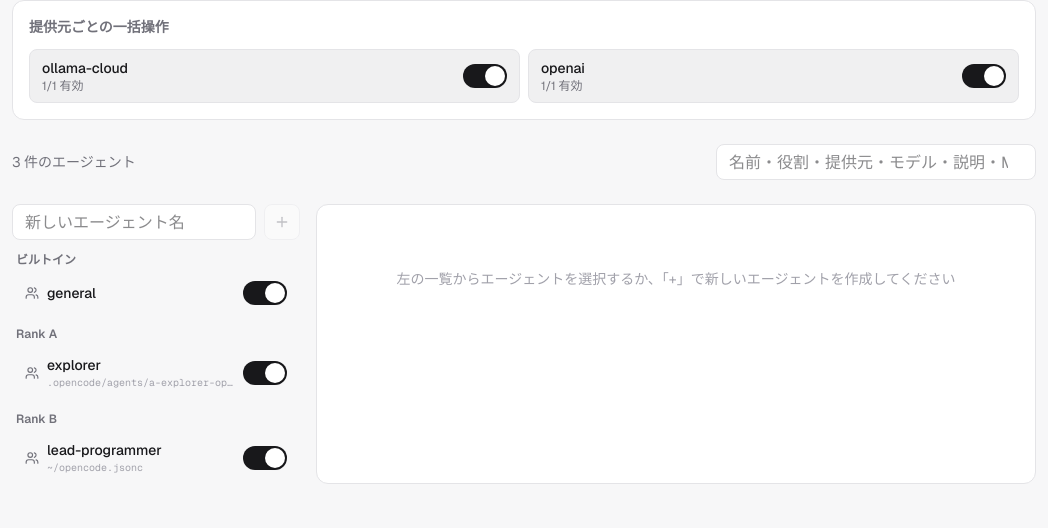
Test case: AgentsSettings › lists each agent's source path and shows its scope once selected
Check: the heading "Rank A" is shown, box [16,326,57,342]
Check: the number of headings "Rank B" is 1, box [16,411,57,427]
Click the button "explorer .opencode/agents/a-explorer-openai-gpt-5.md": (130, 372) [25,355,235,390]
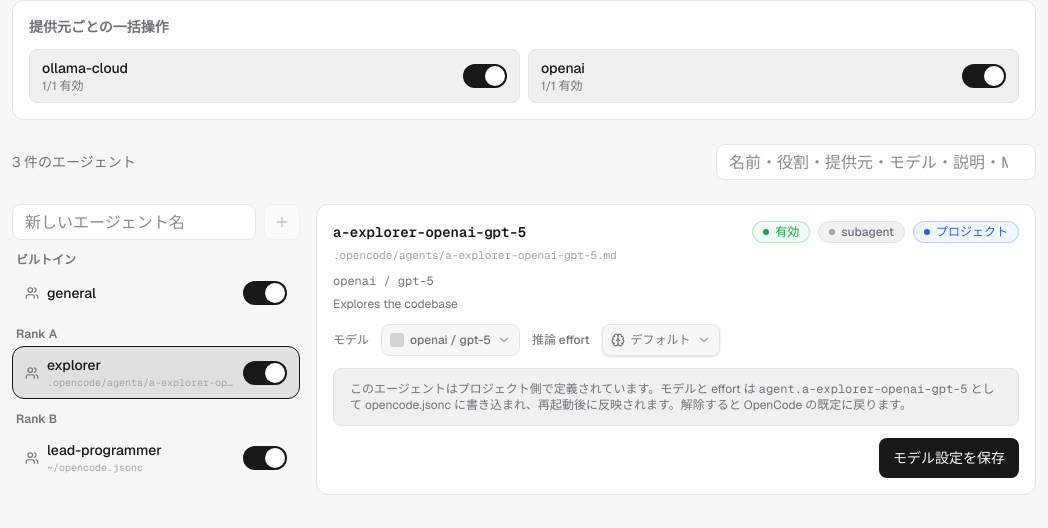
Check: the text "プロジェクト" is shown, box [913,221,1019,243]
Click the button "lead-programmer ~/opencode.jsonc": (130, 458) [25,440,235,475]
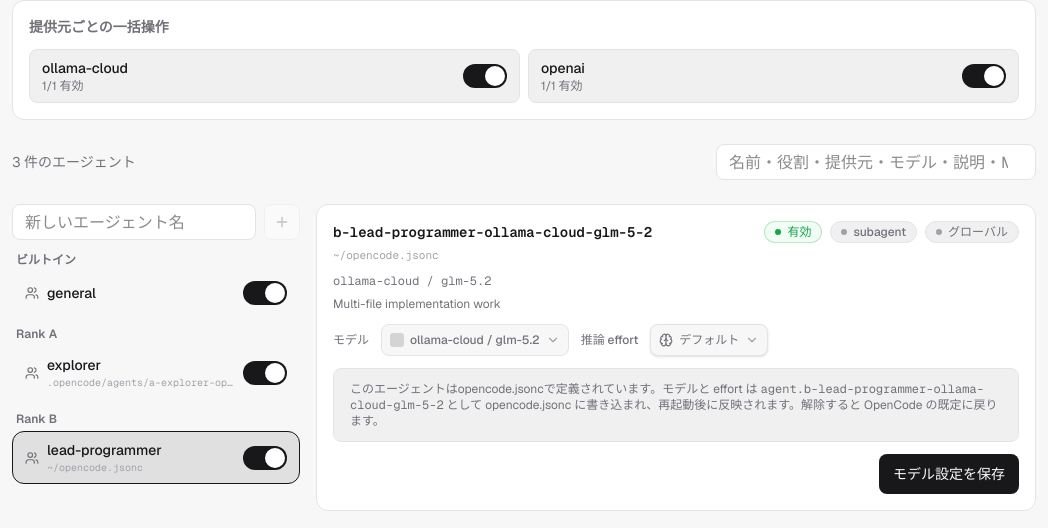
Check: the text "グローバル" is shown, box [925,221,1019,243]
